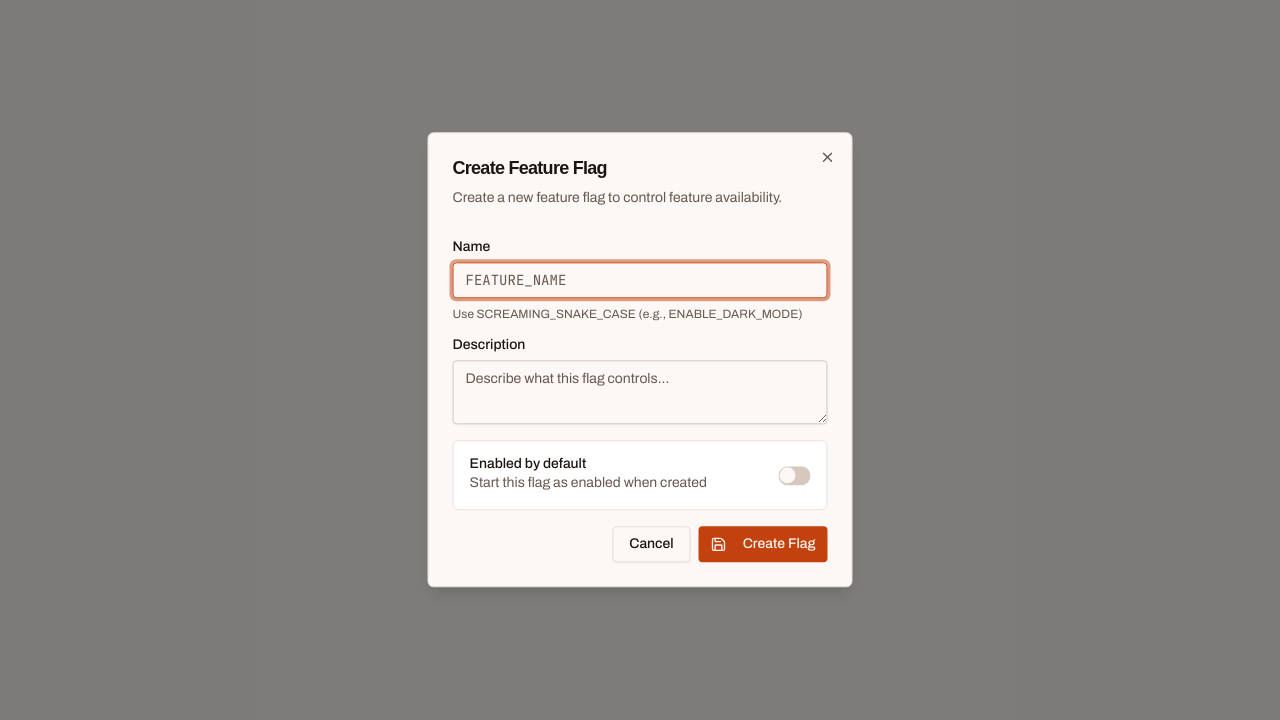
components/admin/feature-flag-form › form submission - create mode › should show loading state during submission
This screenshot has width=1280, height=720.
In the field labelled "Name": (640, 281) [452, 263, 828, 299], type "TEST_FLAG"
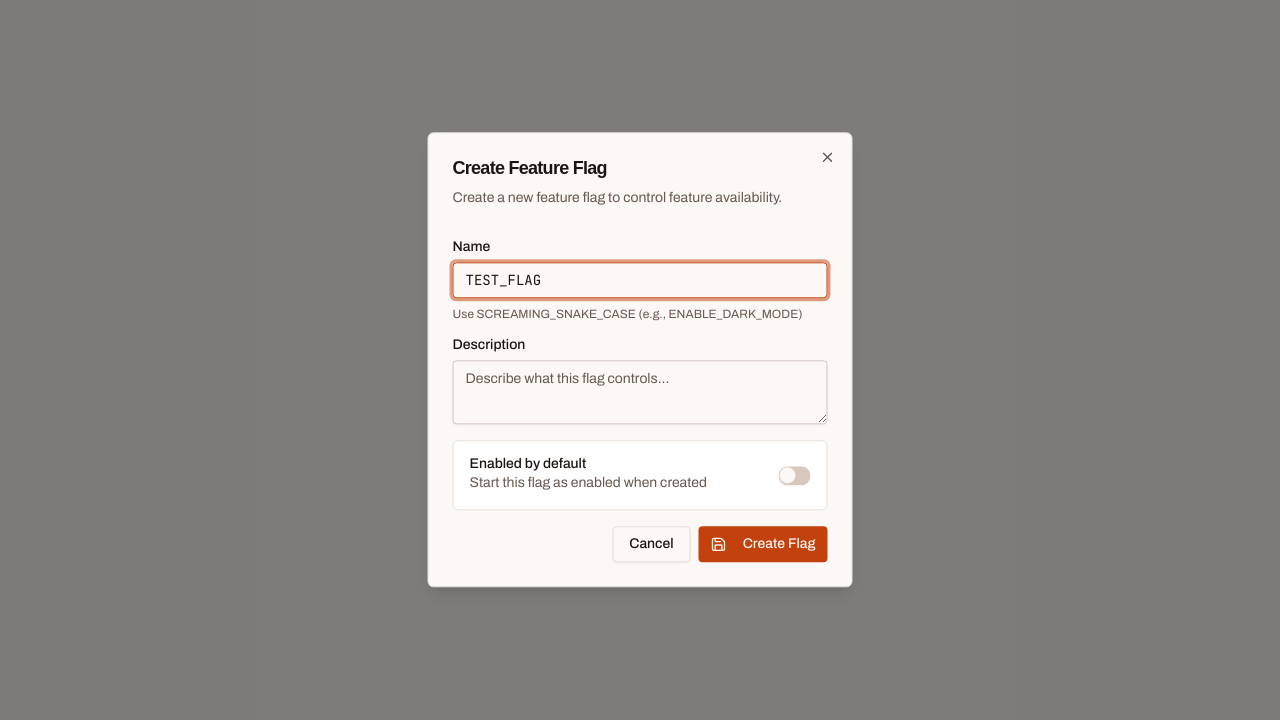
Click the button "Create Flag": (763, 545) [699, 527, 828, 563]
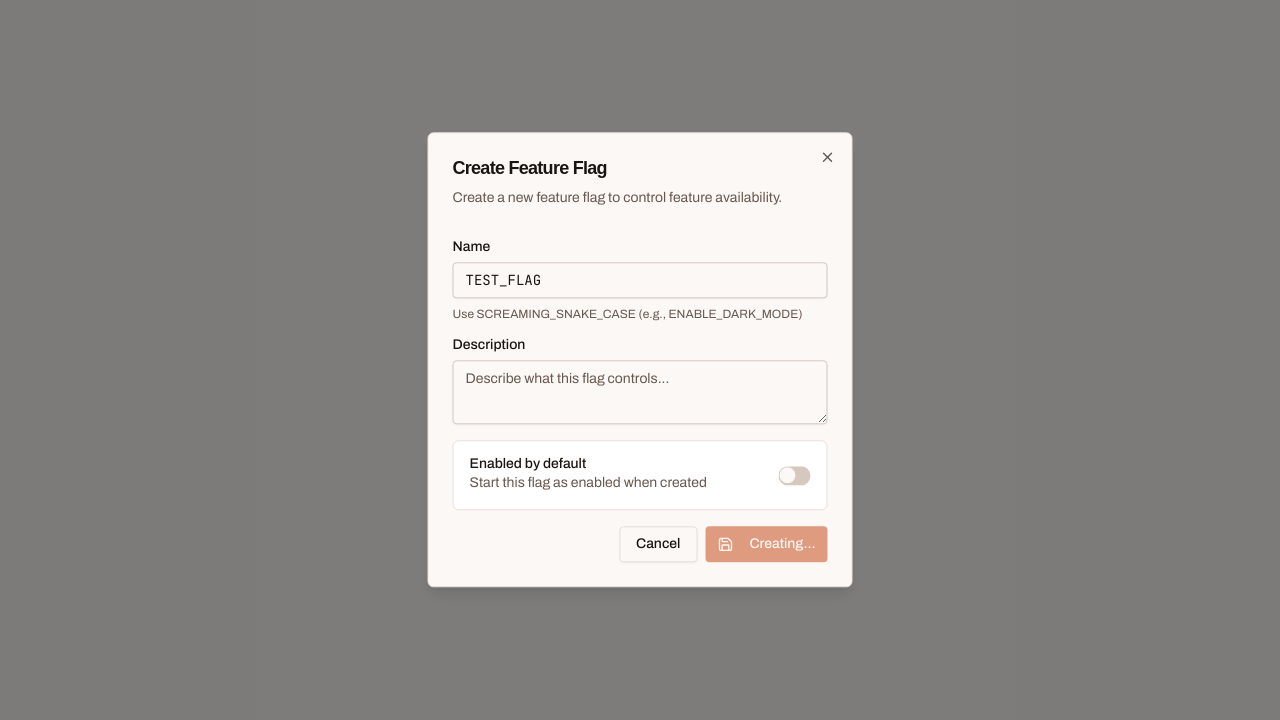
Result: the button "Creating..." is disabled at [705, 527, 828, 563]
